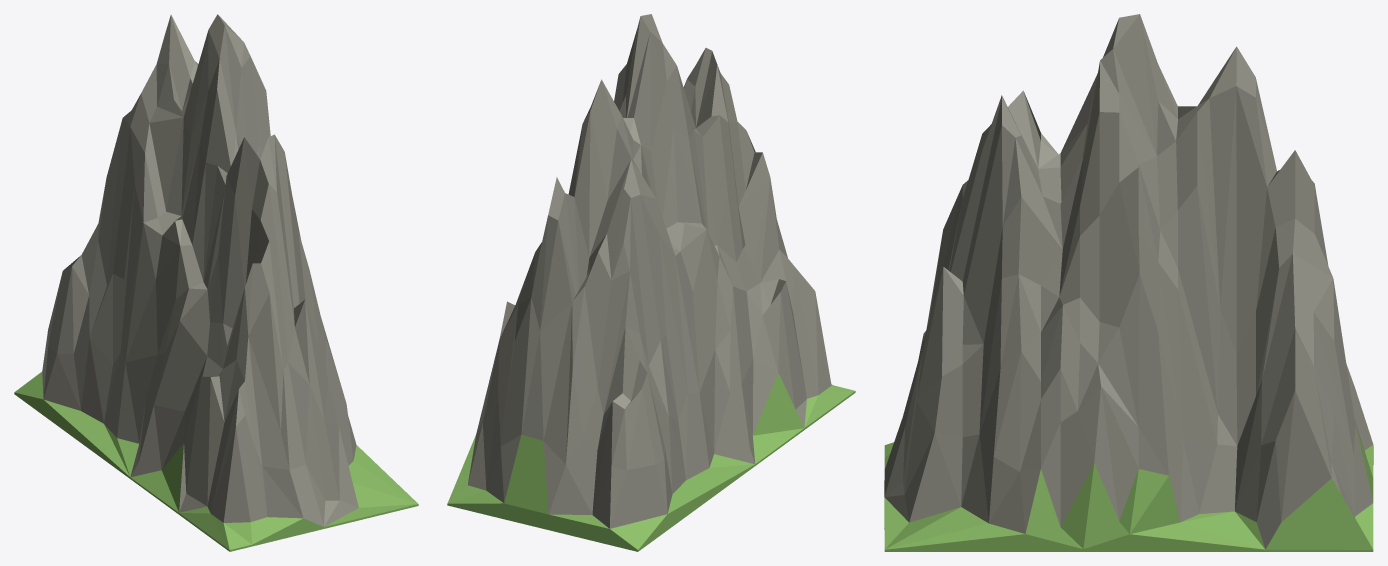
The model's file is Mountain.fbx.
3 views of the same model, side by side, from view 1: azimuth 30°, elevation 25°; view 2: azimuth 150°, elevation 25°; view 3: azimuth 270°, elevation 25° (orthographic). The views are drawn at different scales.
Visible parts, largest first — view 1: Plane.003; view 2: Plane.003; view 3: Plane.003.
Part boxes in pixels (bbox=[...]): Plane.003: bbox=[14, 14, 418, 551]; Plane.003: bbox=[447, 14, 855, 551]; Plane.003: bbox=[884, 14, 1373, 551].
Size of the model in its own units: 201 by 437 by 396.
